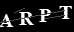A: (1, 13, 14, 28)
P: (37, 8, 52, 23)
R: (17, 11, 35, 26)
T: (58, 5, 72, 20)
